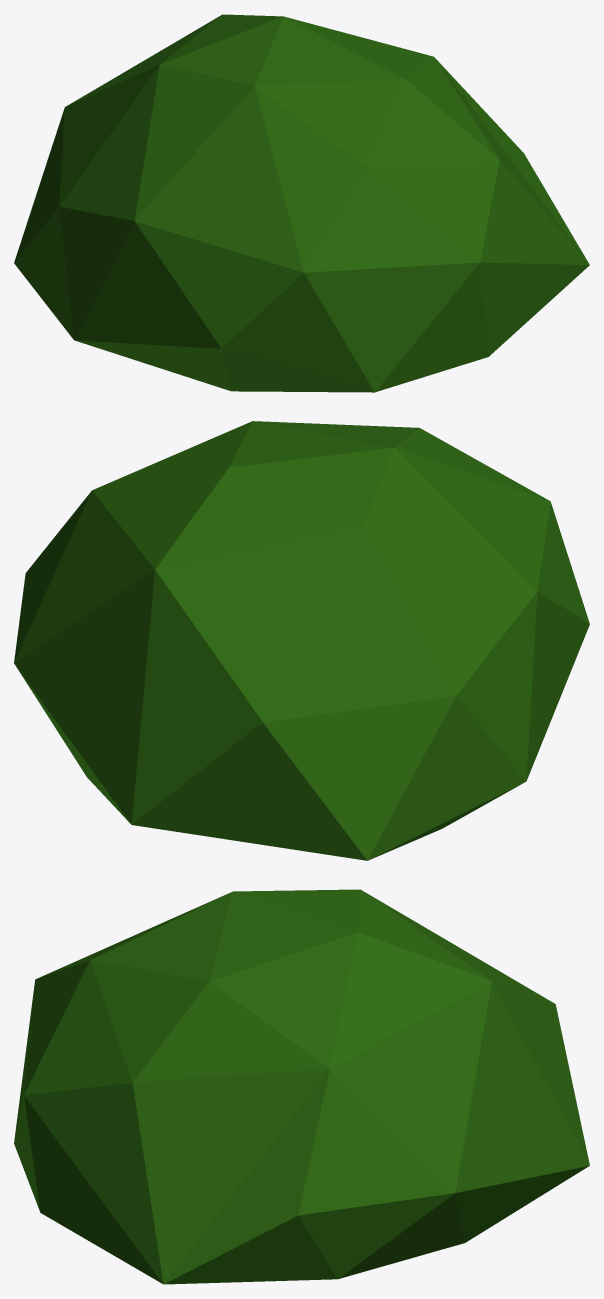
File: SM_bush_02.fbx
3 views of the same model, one above another, from view 1: azimuth 30°, elevation 25°; view 2: azimuth 150°, elevation 25°; view 3: azimuth 270°, elevation 25° (orthographic). The views are drawn at different scales.
Parts seen in each view (by area): view 1: Object021; view 2: Object021; view 3: Object021.
Boxes of the visible parts, x1=… form: Object021: x1=14, y1=14, x2=589, y2=392; Object021: x1=14, y1=421, x2=589, y2=860; Object021: x1=14, y1=889, x2=589, y2=1284.
Size of the model in its own units: 61.99 by 36.24 by 65.46.
